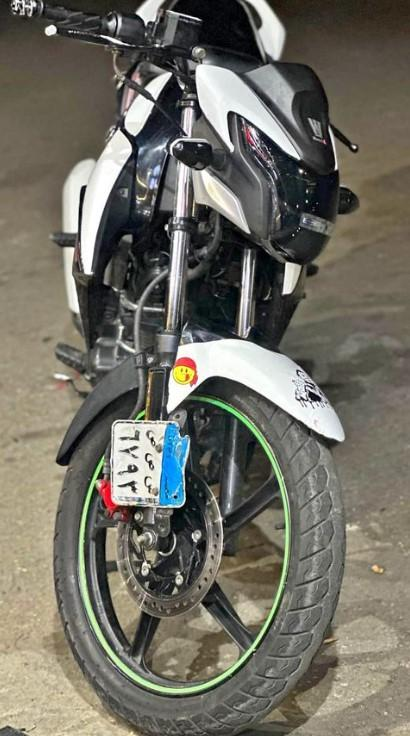License Plate: (111, 417, 185, 507)
